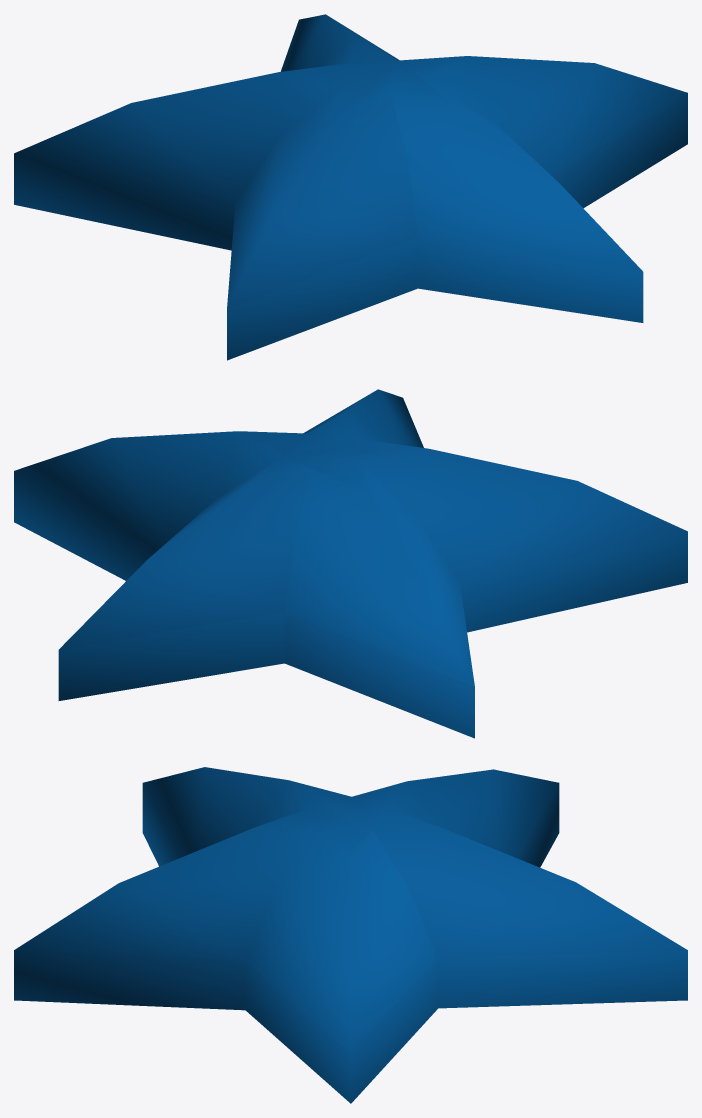
The model's file is SM_Toy_03.fbx.
3 views of the same model, one above another, from view 1: azimuth 30°, elevation 25°; view 2: azimuth 150°, elevation 25°; view 3: azimuth 270°, elevation 25° (orthographic). The views are drawn at different scales.
Parts seen in each view (by area): view 1: SM_Toy_03; view 2: SM_Toy_03; view 3: SM_Toy_03.
Boxes of the visible parts, box(x1,y1,x2,y2) form: SM_Toy_03: box(14, 14, 687, 360); SM_Toy_03: box(14, 389, 687, 738); SM_Toy_03: box(14, 767, 687, 1103).
Bounding box in the file's own units: 16.33 × 3.96 × 17.17.
1 material, 1 textured.
